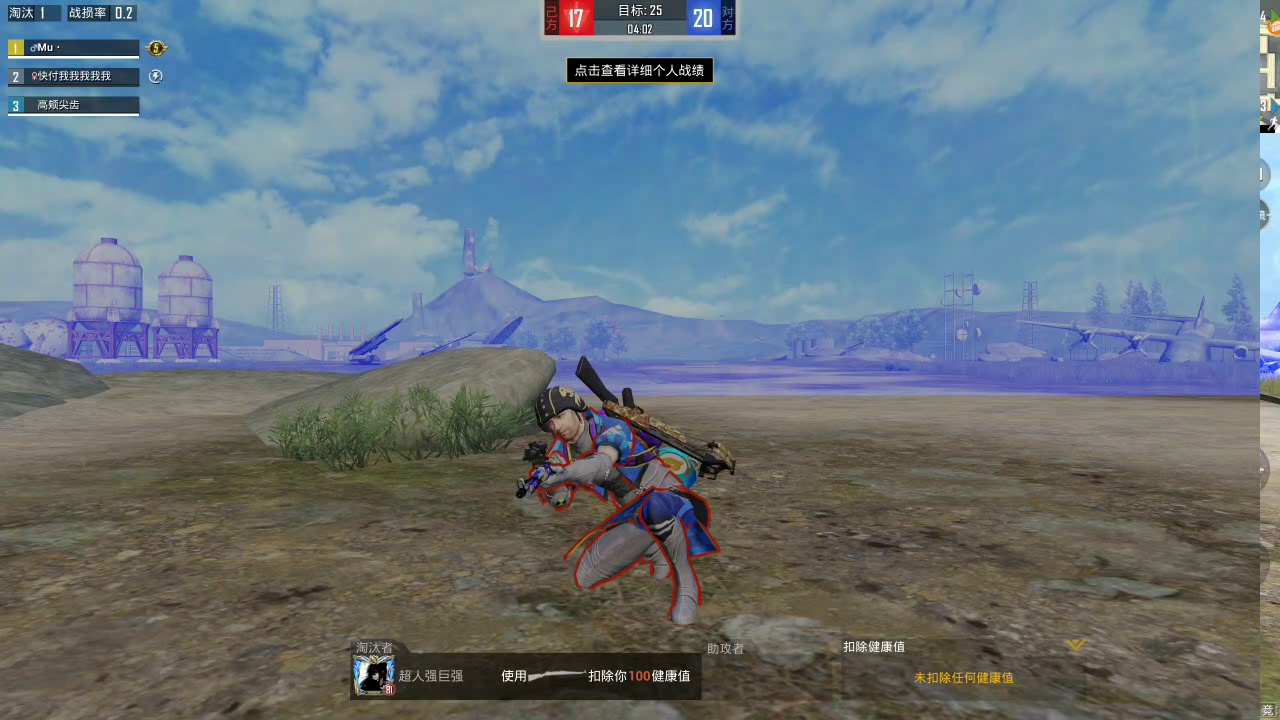enemy: (520, 384, 703, 623)
